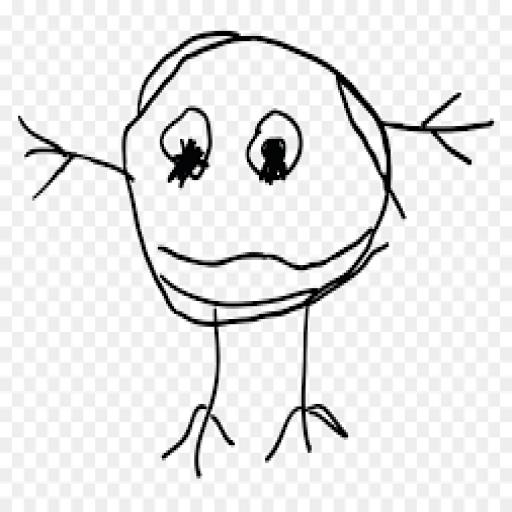person: (16, 27, 496, 484)
